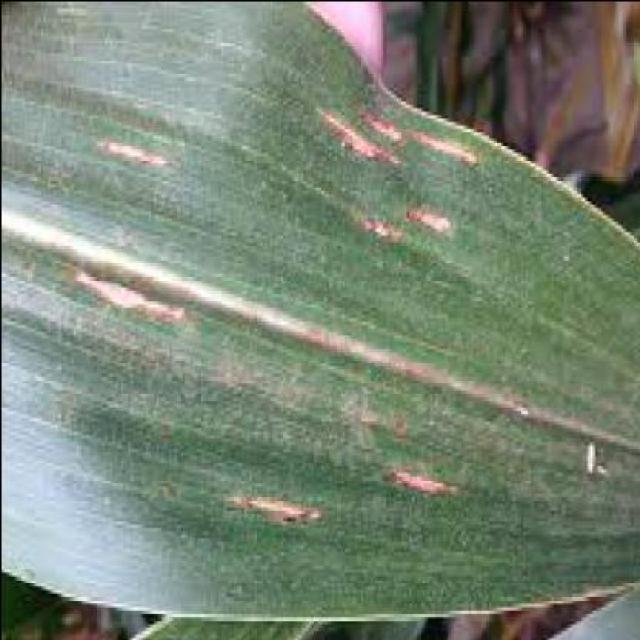Corn_Grey_Leaf_Spot: (1, 18, 640, 607)
